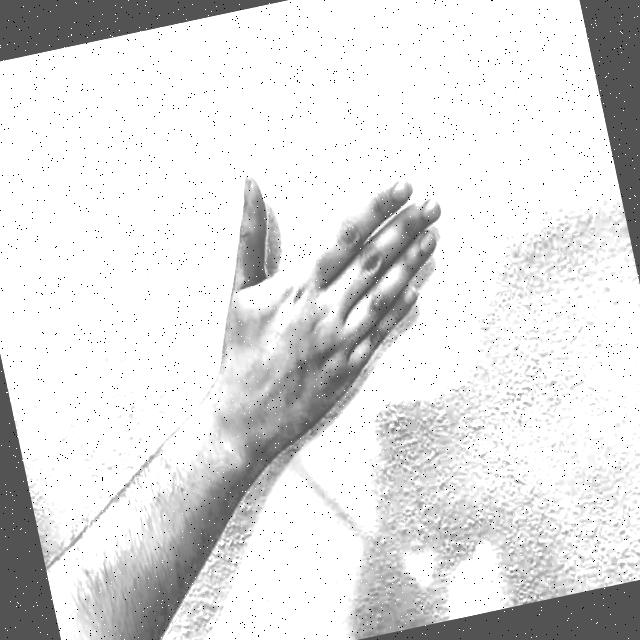Aa: (151, 69, 518, 498)
